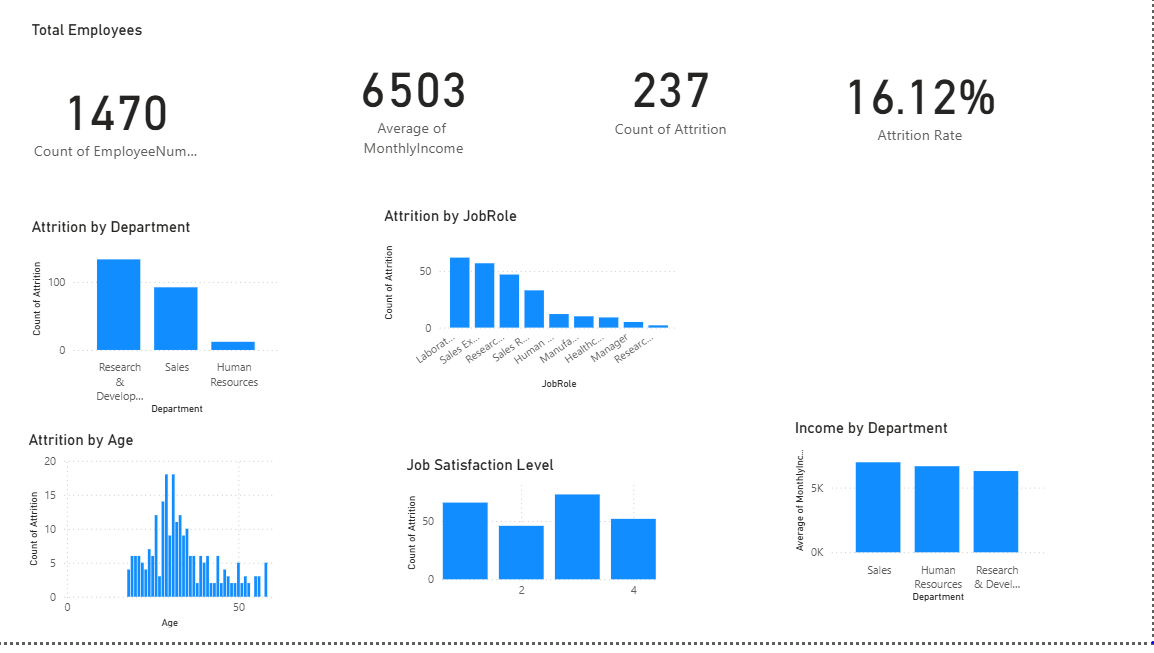

The dashboard page shown, as its layout file describes it:
{"tool":"powerbi","page":{"name":"Page 1","canvas":[1280,720],"ordinal":0},"visuals":[{"type":"card","fields":{"Values":["CountNonNull(WA_Fn-UseC_-HR-Employee-Attrition.EmployeeNumber)"]},"box":[10,0,280,280],"z":0},{"type":"card","fields":{"Values":["CountNonNull(WA_Fn-UseC_-HR-Employee-Attrition.Attrition)"]},"box":[7,223.4,286.3,279.3],"z":1000},{"type":"card","fields":{"Values":["WA_Fn-UseC_-HR-Employee-Attrition.Attrition Rate"]},"box":[7,512,286,208],"z":2000},{"type":"card","fields":{"Values":["Avg(WA_Fn-UseC_-HR-Employee-Attrition.MonthlyIncome)"]},"box":[315.7,0,285.7,278.6],"z":2001},{"type":"clusteredColumnChart","fields":{"Y":["CountNonNull(WA_Fn-UseC_-HR-Employee-Attrition.Attrition)"],"Category":["WA_Fn-UseC_-HR-Employee-Attrition.Department"]},"box":[303,279,286,223],"z":2002},{"type":"clusteredColumnChart","fields":{"Category":["WA_Fn-UseC_-HR-Employee-Attrition.JobRole"],"Y":["CountNonNull(WA_Fn-UseC_-HR-Employee-Attrition.Attrition)"]},"box":[251.1,512.2,337.8,207.8],"z":2003},{"type":"clusteredColumnChart","fields":{"Category":["WA_Fn-UseC_-HR-Employee-Attrition.Age"],"Y":["CountNonNull(WA_Fn-UseC_-HR-Employee-Attrition.Attrition)"]},"box":[601.4,111.4,287.1,222.9],"z":2004}]}

Visuals, with their boxes in screenshot pixels (x1, y1, x2, y2), scaled from the page's 1280x720 canvas onto the 1154x653 screenshot:
card - CountNonNull(WA_Fn-UseC_-HR-Employee-Attrition.EmployeeNumber): box(9, 0, 261, 254)
card - CountNonNull(WA_Fn-UseC_-HR-Employee-Attrition.Attrition): box(6, 203, 264, 456)
card - WA_Fn-UseC_-HR-Employee-Attrition.Attrition Rate: box(6, 464, 264, 652)
card - Avg(WA_Fn-UseC_-HR-Employee-Attrition.MonthlyIncome): box(285, 0, 542, 253)
clusteredColumnChart - CountNonNull(WA_Fn-UseC_-HR-Employee-Attrition.Attrition) x WA_Fn-UseC_-HR-Employee-Attrition.Department: box(273, 253, 531, 455)
clusteredColumnChart - WA_Fn-UseC_-HR-Employee-Attrition.JobRole x CountNonNull(WA_Fn-UseC_-HR-Employee-Attrition.Attrition): box(226, 465, 531, 652)
clusteredColumnChart - WA_Fn-UseC_-HR-Employee-Attrition.Age x CountNonNull(WA_Fn-UseC_-HR-Employee-Attrition.Attrition): box(542, 101, 801, 303)
